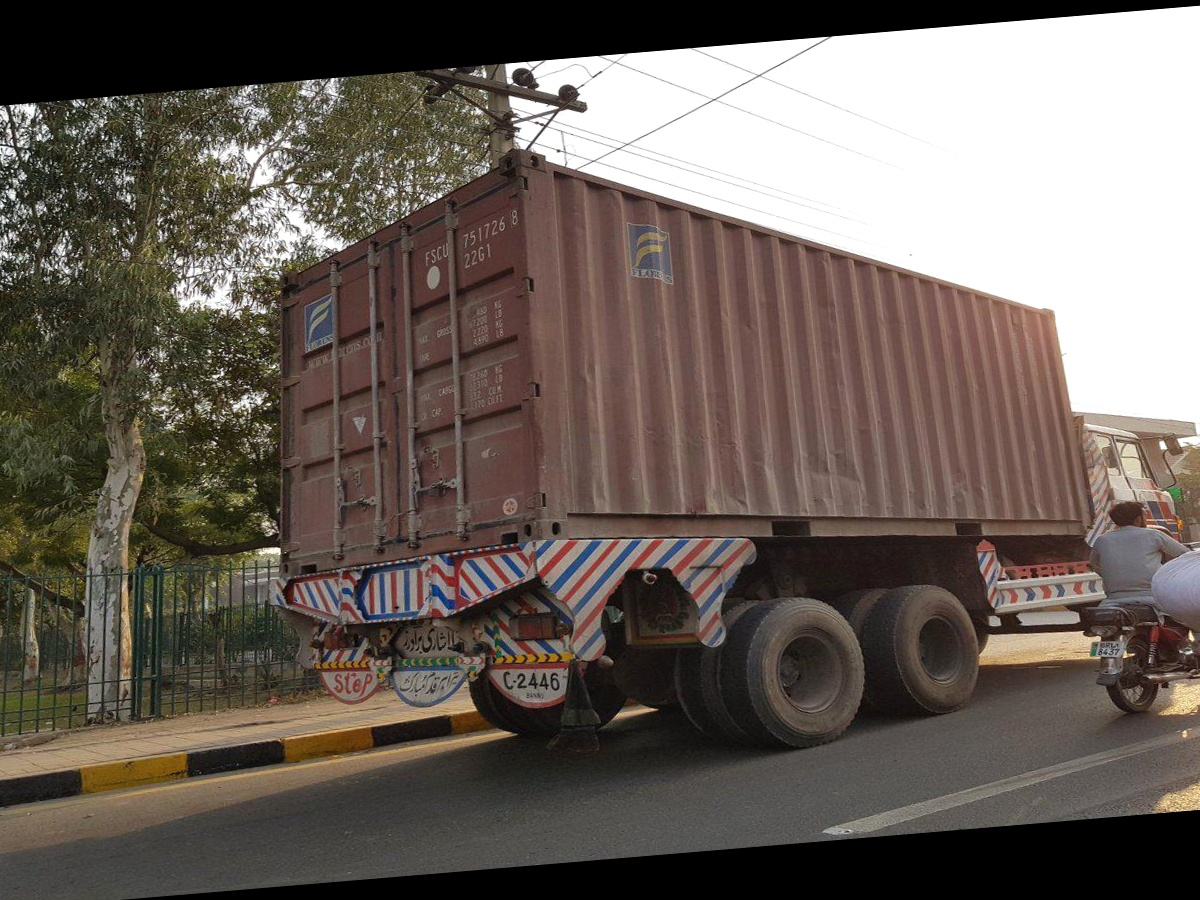truck: (240, 95, 1200, 784)
